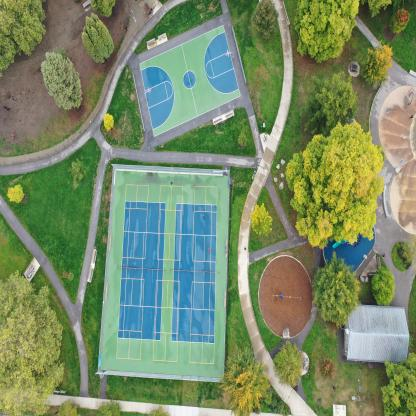Coniferous Tree: (312, 260, 360, 326), (225, 351, 270, 416), (307, 75, 357, 126), (38, 55, 83, 110), (82, 17, 116, 71), (273, 342, 305, 390), (364, 43, 393, 82)
Deciduous Tree: (285, 123, 372, 253), (1, 281, 60, 416), (292, 0, 353, 60), (385, 343, 416, 416), (371, 268, 397, 308), (249, 206, 272, 236), (6, 182, 26, 206), (102, 115, 116, 133)
